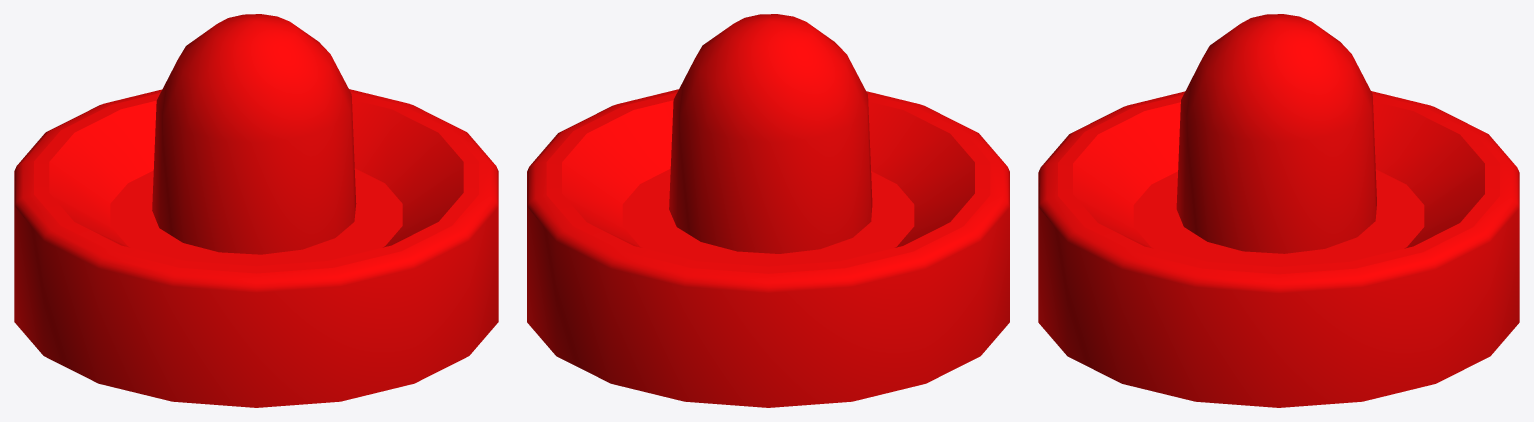
The model's file is Pusher(s).fbx.
The picture shows the model from 3 angles, left to right: view 1: azimuth 30°, elevation 25°; view 2: azimuth 150°, elevation 25°; view 3: azimuth 270°, elevation 25°; orthographic projection.
Parts seen in each view (by area): view 1: Pusher 2; view 2: Pusher 2; view 3: Pusher 2.
Part boxes in pixels (x1,y1,x2,y2): Pusher 2: [14, 14, 498, 407]; Pusher 2: [527, 14, 1009, 407]; Pusher 2: [1038, 14, 1519, 407].
Bounding box in the file's own units: 6.98 × 4.44 × 6.87.
